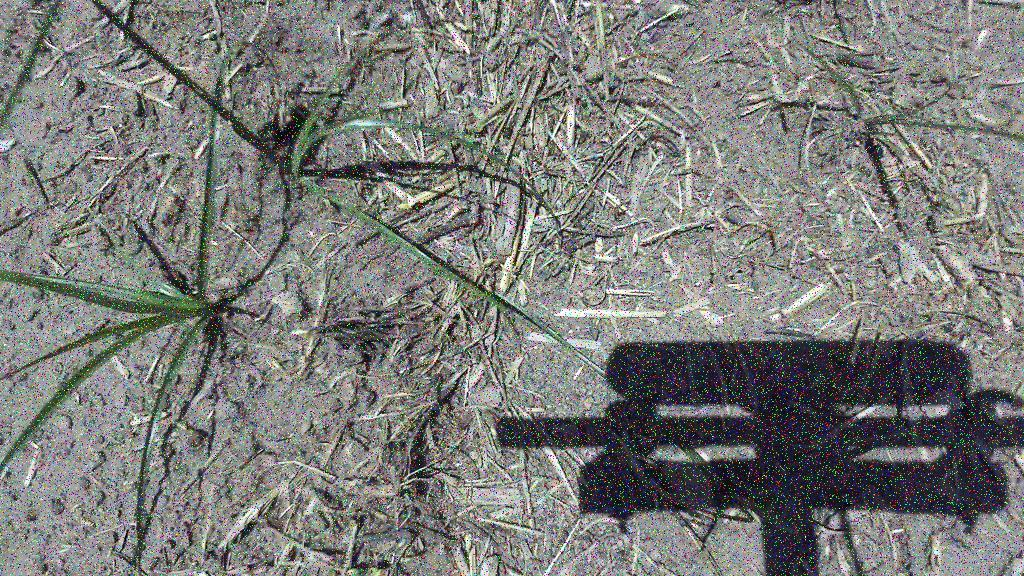BroWeed: (466, 124, 484, 143), (346, 566, 380, 576), (203, 542, 222, 556)
NarWeed: (494, 279, 732, 493)
